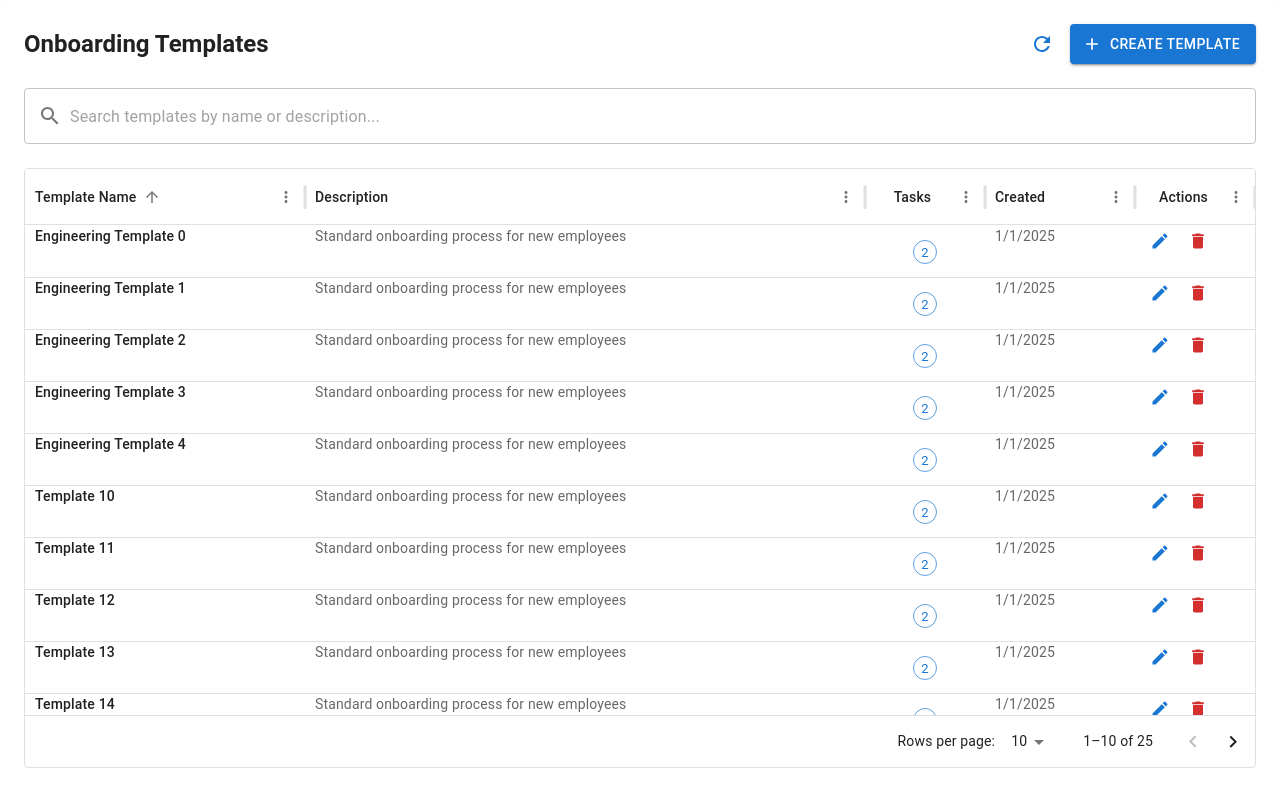
it: TemplateList Component › Search Functionality › resets pagination when searching
This screenshot has width=1280, height=787.
Expected: the text "Engineering Template 0" is shown, x1=35 y1=228 x2=186 y2=244
Go to page 2
Click the button named "next page". click: (1233, 742)
box: x1=1213 y1=722 x2=1253 y2=762
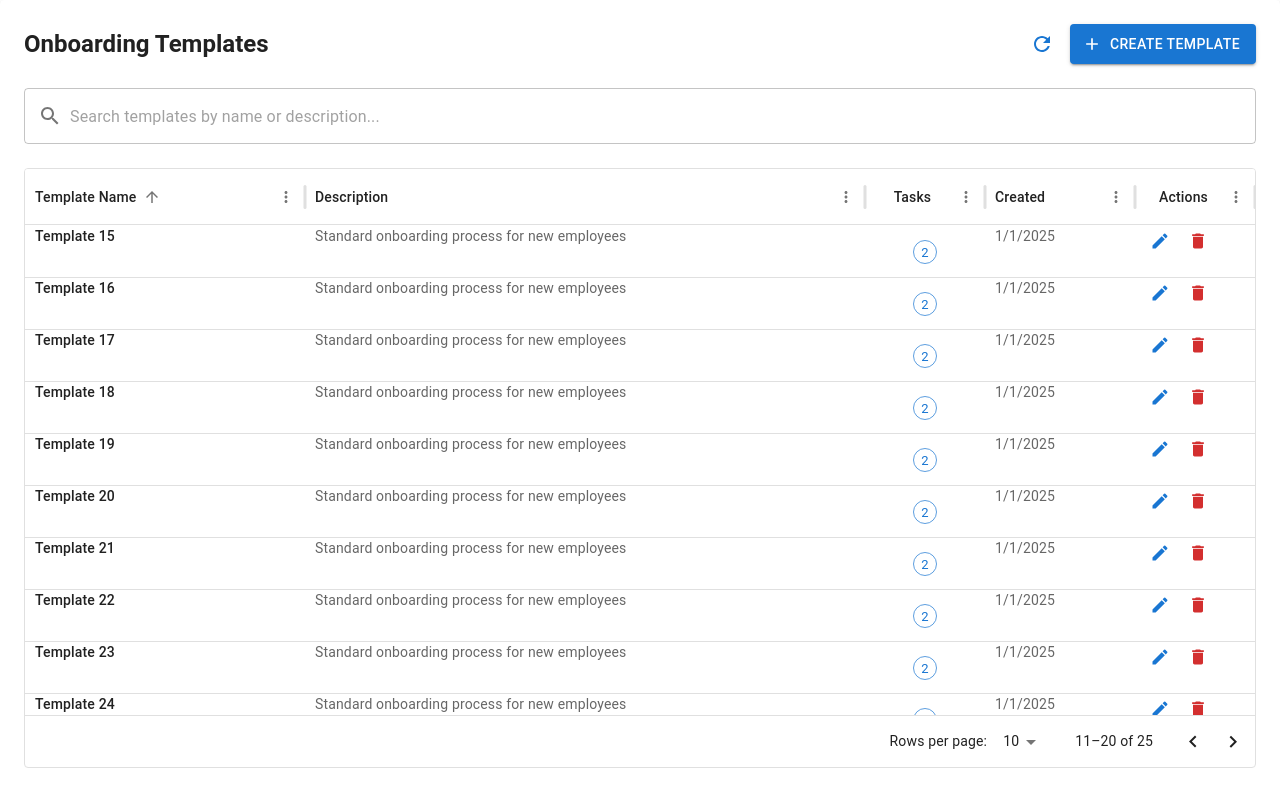
Search should reset to page 1
Type "Engineering" into the field with placeholder "Search templates by name or description...". click: (663, 116)
box: x1=70 y1=88 x2=1256 y2=144
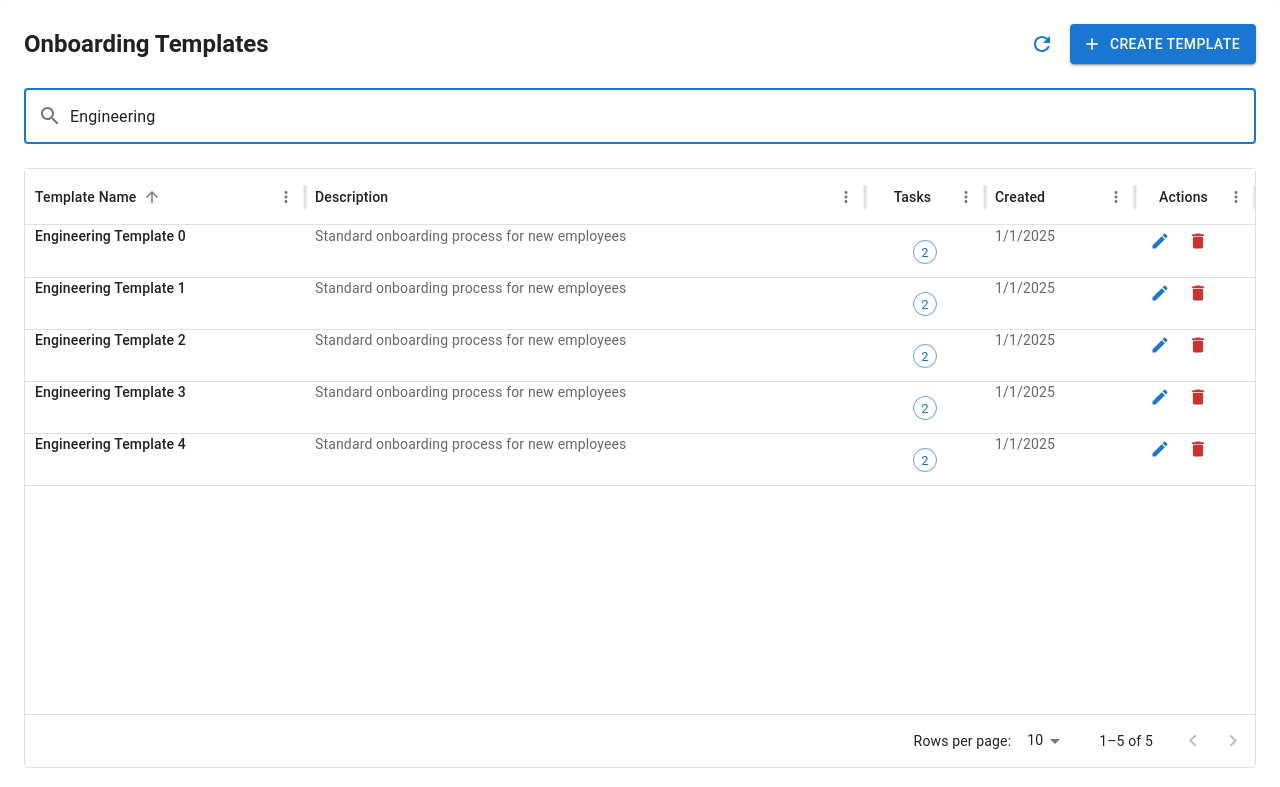
Result: the text "Engineering Template 0" is shown at x1=35 y1=228 x2=186 y2=244
